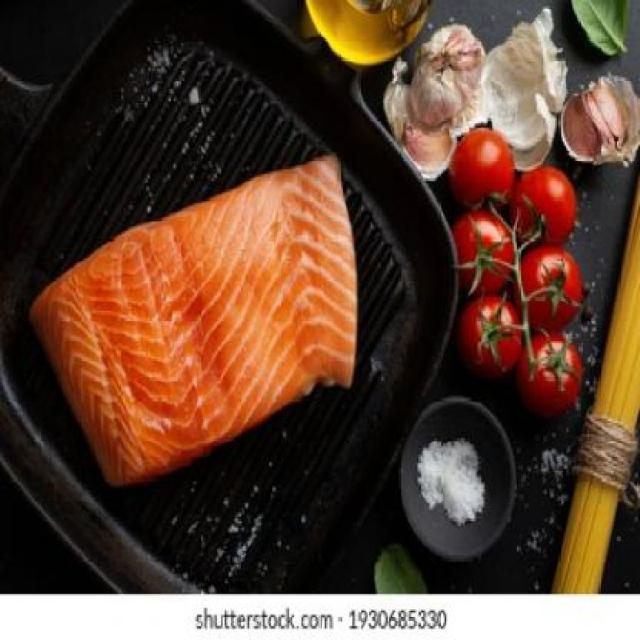salmon: (23, 156, 391, 498)
